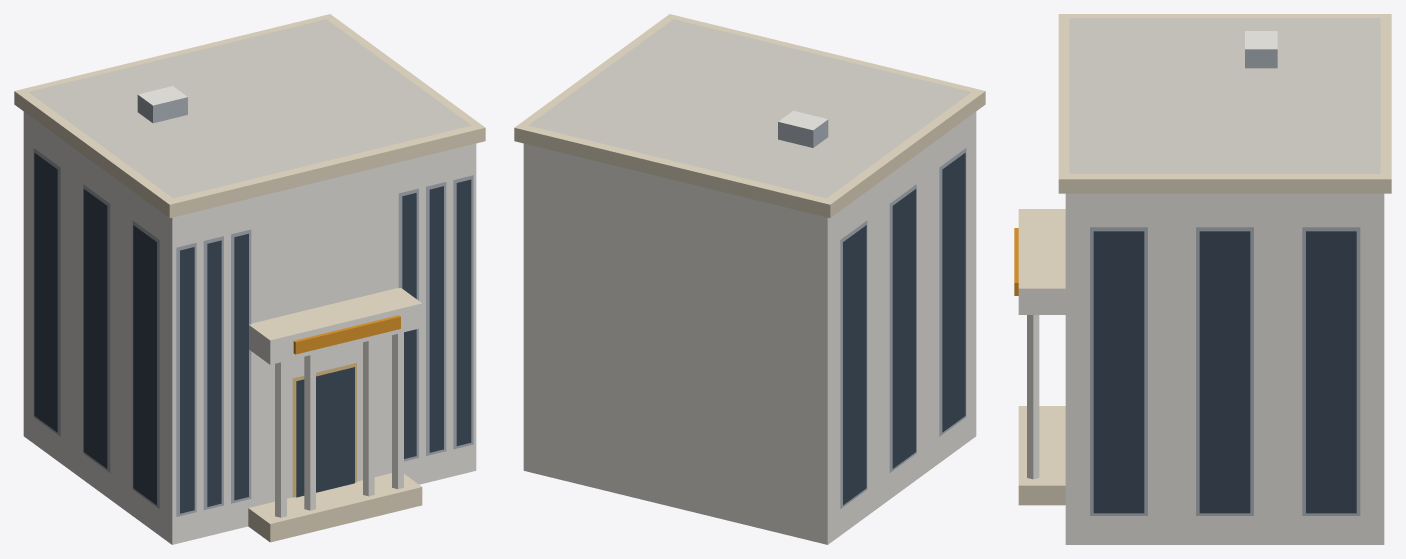
The model's file is B_Bank.fbx.
The picture shows the model from 3 angles, left to right: view 1: azimuth 30°, elevation 25°; view 2: azimuth 150°, elevation 25°; view 3: azimuth 270°, elevation 25°; orthographic projection. The views are drawn at different scales.
Visible parts, largest first — view 1: B_Bank.001; view 2: B_Bank.001; view 3: B_Bank.001.
Part boxes in pixels (x1,y1,x2,y2): B_Bank.001: (14,14,485,544); B_Bank.001: (514,14,985,544); B_Bank.001: (1014,14,1391,544).
Size of the model in its own units: 5.4 by 5.97 by 5.21.
